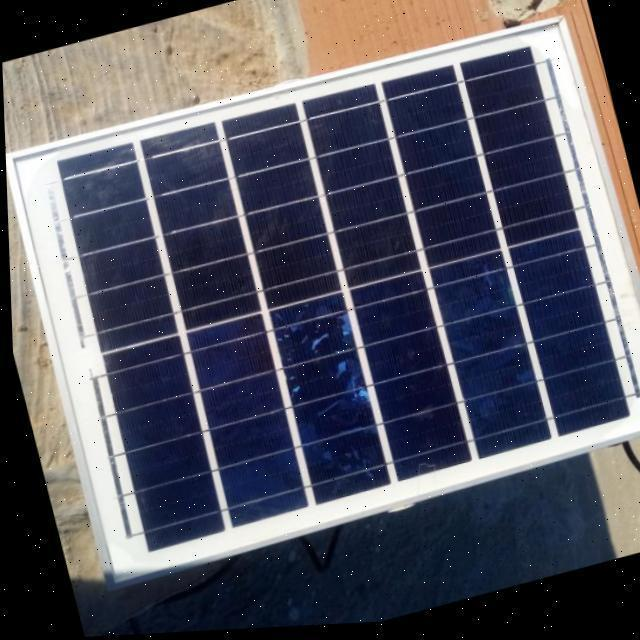Normal Solar Panel: (1, 5, 640, 592)
